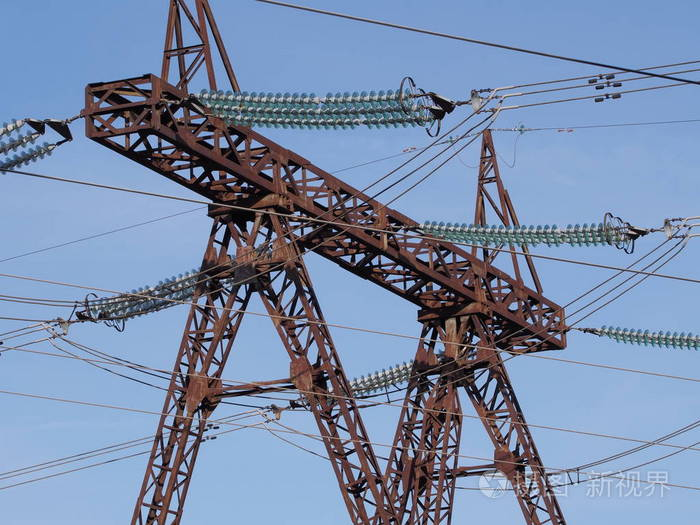insulator: (192, 90, 432, 129), (89, 267, 199, 328), (419, 218, 615, 250), (1, 117, 49, 183), (600, 323, 700, 349), (354, 361, 411, 398)
